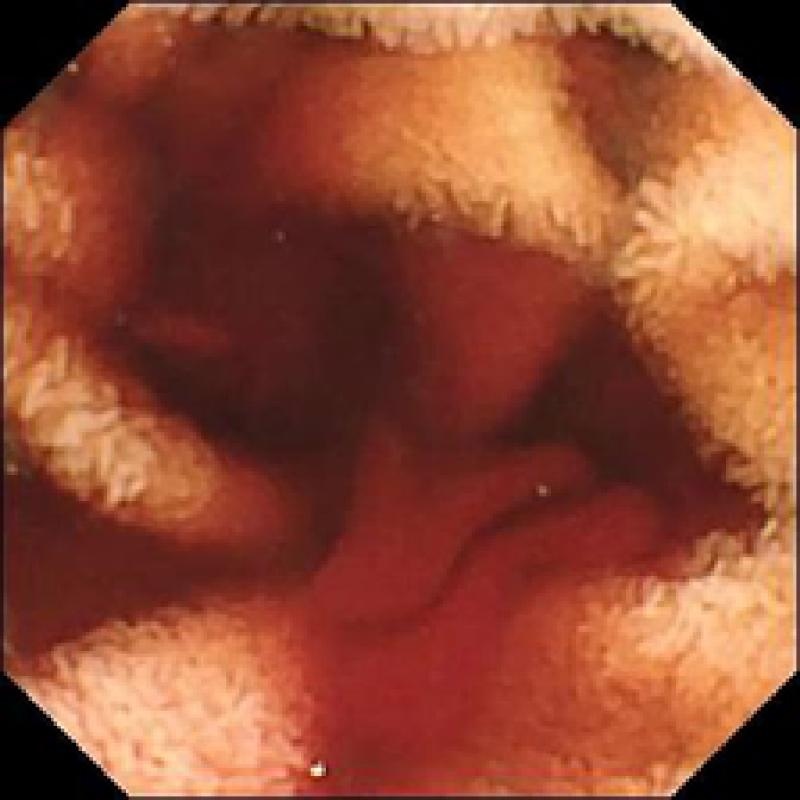bleeding: (303, 433, 652, 800), (82, 50, 400, 354), (0, 453, 240, 678), (413, 231, 589, 428)
